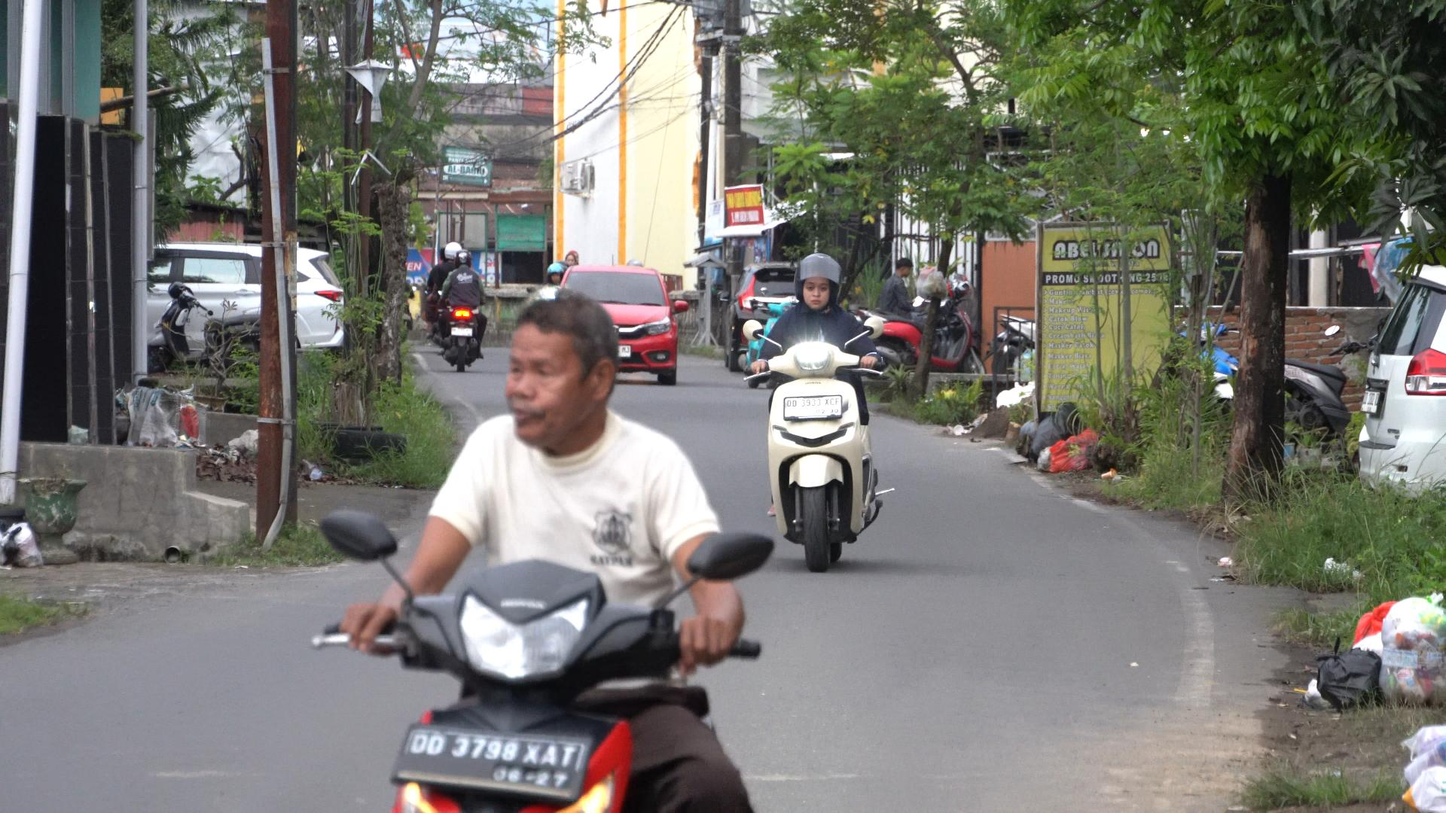number-plate: (390, 721, 590, 805), (776, 393, 843, 424)
